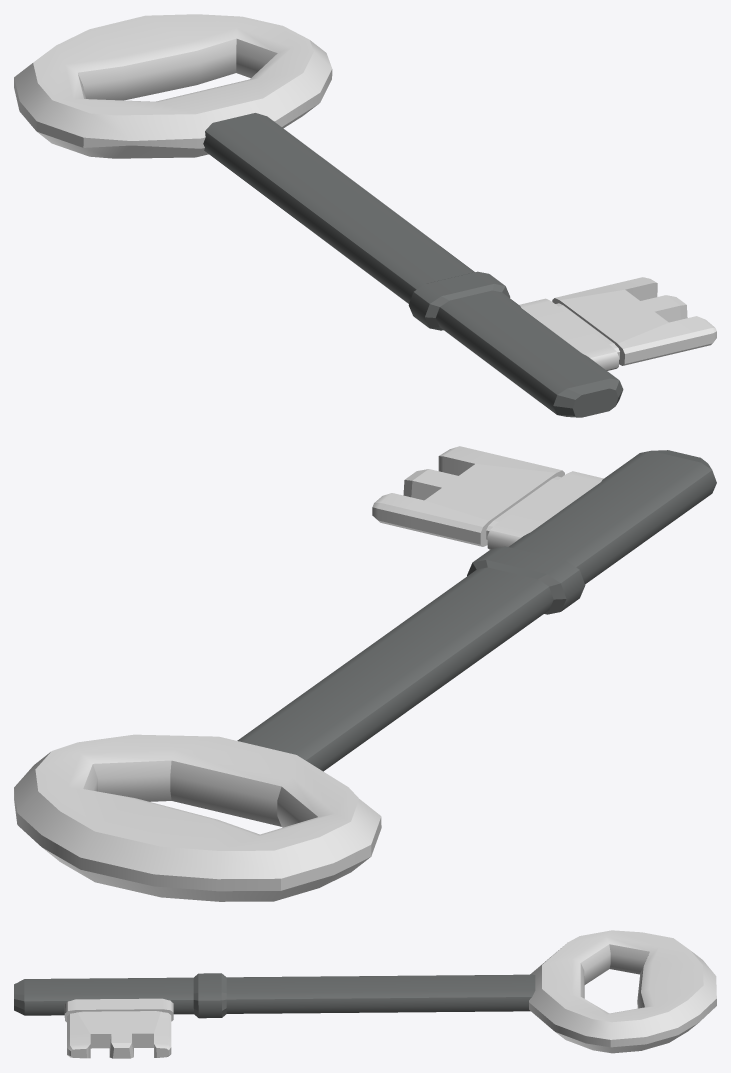
Rendered from Key.fbx.
The picture shows the model from 3 angles, top to bottom: view 1: azimuth 30°, elevation 25°; view 2: azimuth 150°, elevation 25°; view 3: azimuth 270°, elevation 25°; orthographic projection. The views are drawn at different scales.
Visible parts, largest first — view 1: pCube155; view 2: pCube155; view 3: pCube155.
Boxes of the visible parts, left/top/right/bottom form: pCube155: left=14, top=14, right=716, bottom=417; pCube155: left=14, top=446, right=716, bottom=901; pCube155: left=14, top=930, right=716, bottom=1058.
Bounding box in the file's own units: 0.1031 × 0.0149 × 0.2849.
